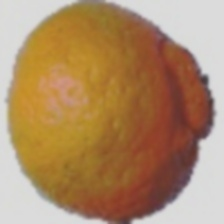tangerine: (30, 37, 191, 181)
